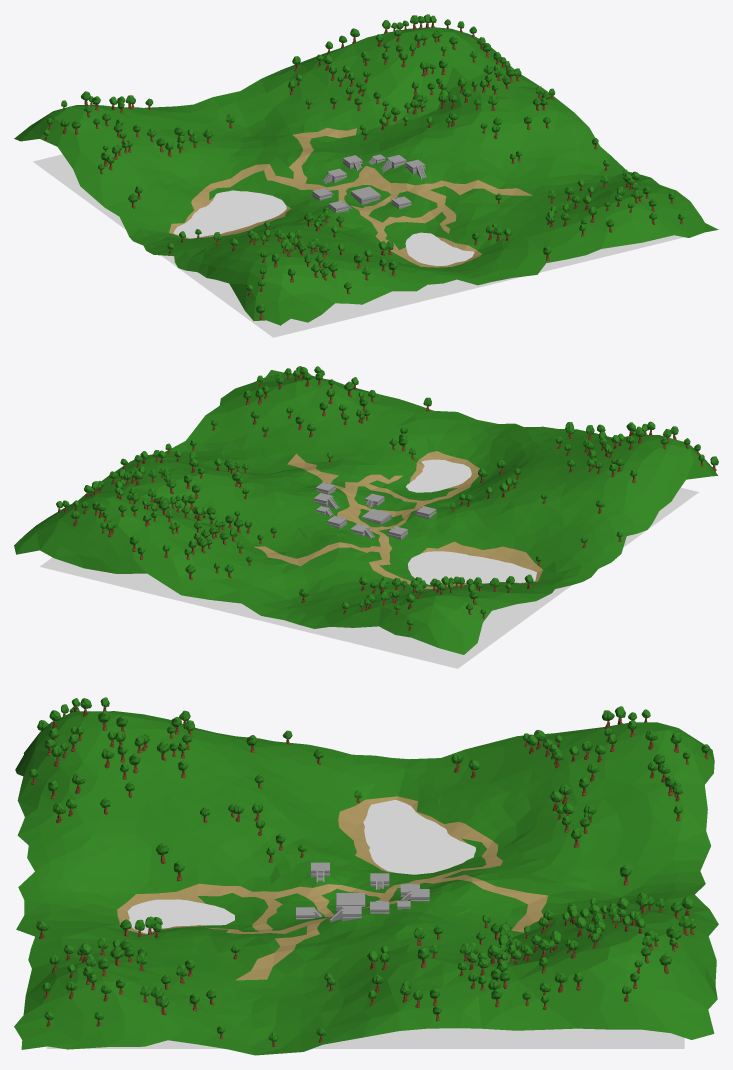
File: landscape.fbx
3 renders of one model, top to bottom at view 1: azimuth 30°, elevation 25°; view 2: azimuth 150°, elevation 25°; view 3: azimuth 270°, elevation 25°, orthographic. The views are drawn at different scales.
Parts seen in each view (by area): view 1: ground path, water; view 2: ground path, water; view 3: ground path, water.
Boxes of the visible parts, bbox=[...] form: ground path: bbox=[14, 27, 718, 325]; water: bbox=[33, 154, 683, 337]; ground path: bbox=[14, 370, 717, 654]; water: bbox=[40, 459, 698, 668]; ground path: bbox=[14, 711, 718, 1055]; water: bbox=[46, 800, 684, 1048].
Size of the model in its own units: 11079 by 1801 by 11050.
